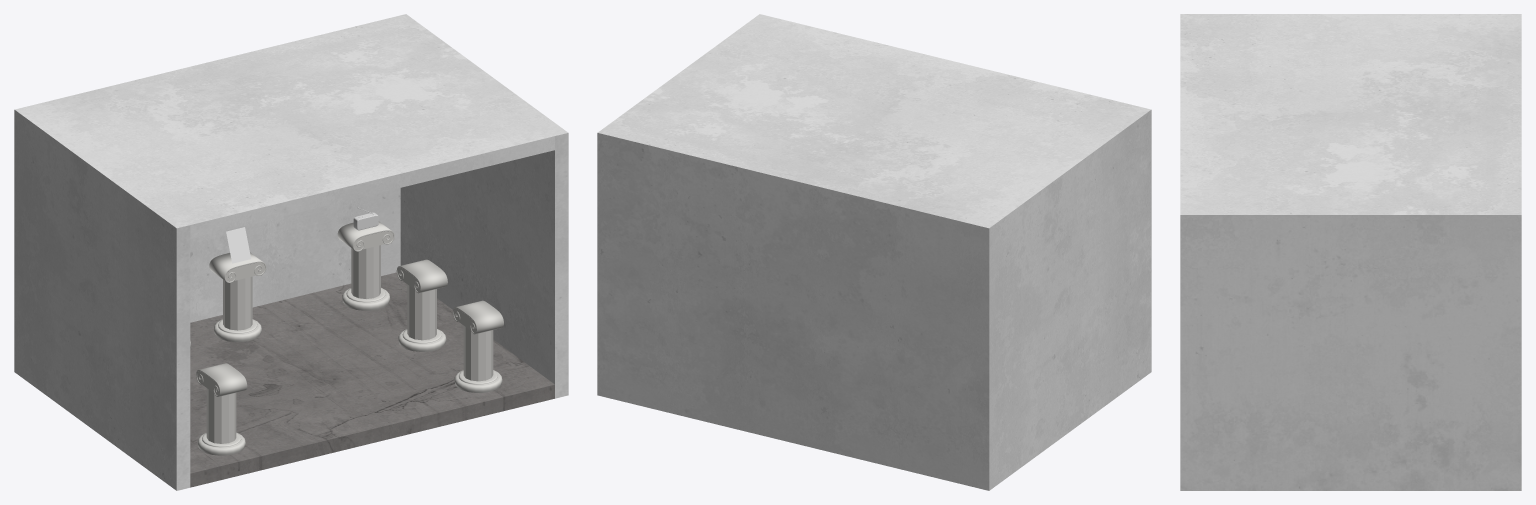
Rendered from Museo.glb.
3 views of the same model, side by side, from view 1: azimuth 30°, elevation 25°; view 2: azimuth 150°, elevation 25°; view 3: azimuth 270°, elevation 25° (orthographic). The views are drawn at different scales.
Visible parts, largest first — view 1: Habitacion museo, Columna1, Columna7, Columna6, Columna5, Columna4, Porfolio; view 2: Habitacion museo; view 3: Habitacion museo.
Part boxes in pixels (x1=…): Habitacion museo: x1=14, y1=14, x2=568, y2=490; Columna1: x1=196, y1=363, x2=247, y2=455; Columna7: x1=453, y1=300, x2=503, y2=392; Columna6: x1=396, y1=259, x2=447, y2=351; Columna5: x1=337, y1=221, x2=394, y2=310; Columna4: x1=209, y1=252, x2=266, y2=342; Porfolio: x1=226, y1=227, x2=250, y2=263; Habitacion museo: x1=597, y1=14, x2=1151, y2=490; Habitacion museo: x1=1180, y1=14, x2=1521, y2=490.
Bounding box in the file's own units: 6.12 × 3.92 × 4.39.
4 materials, 2 textured.
